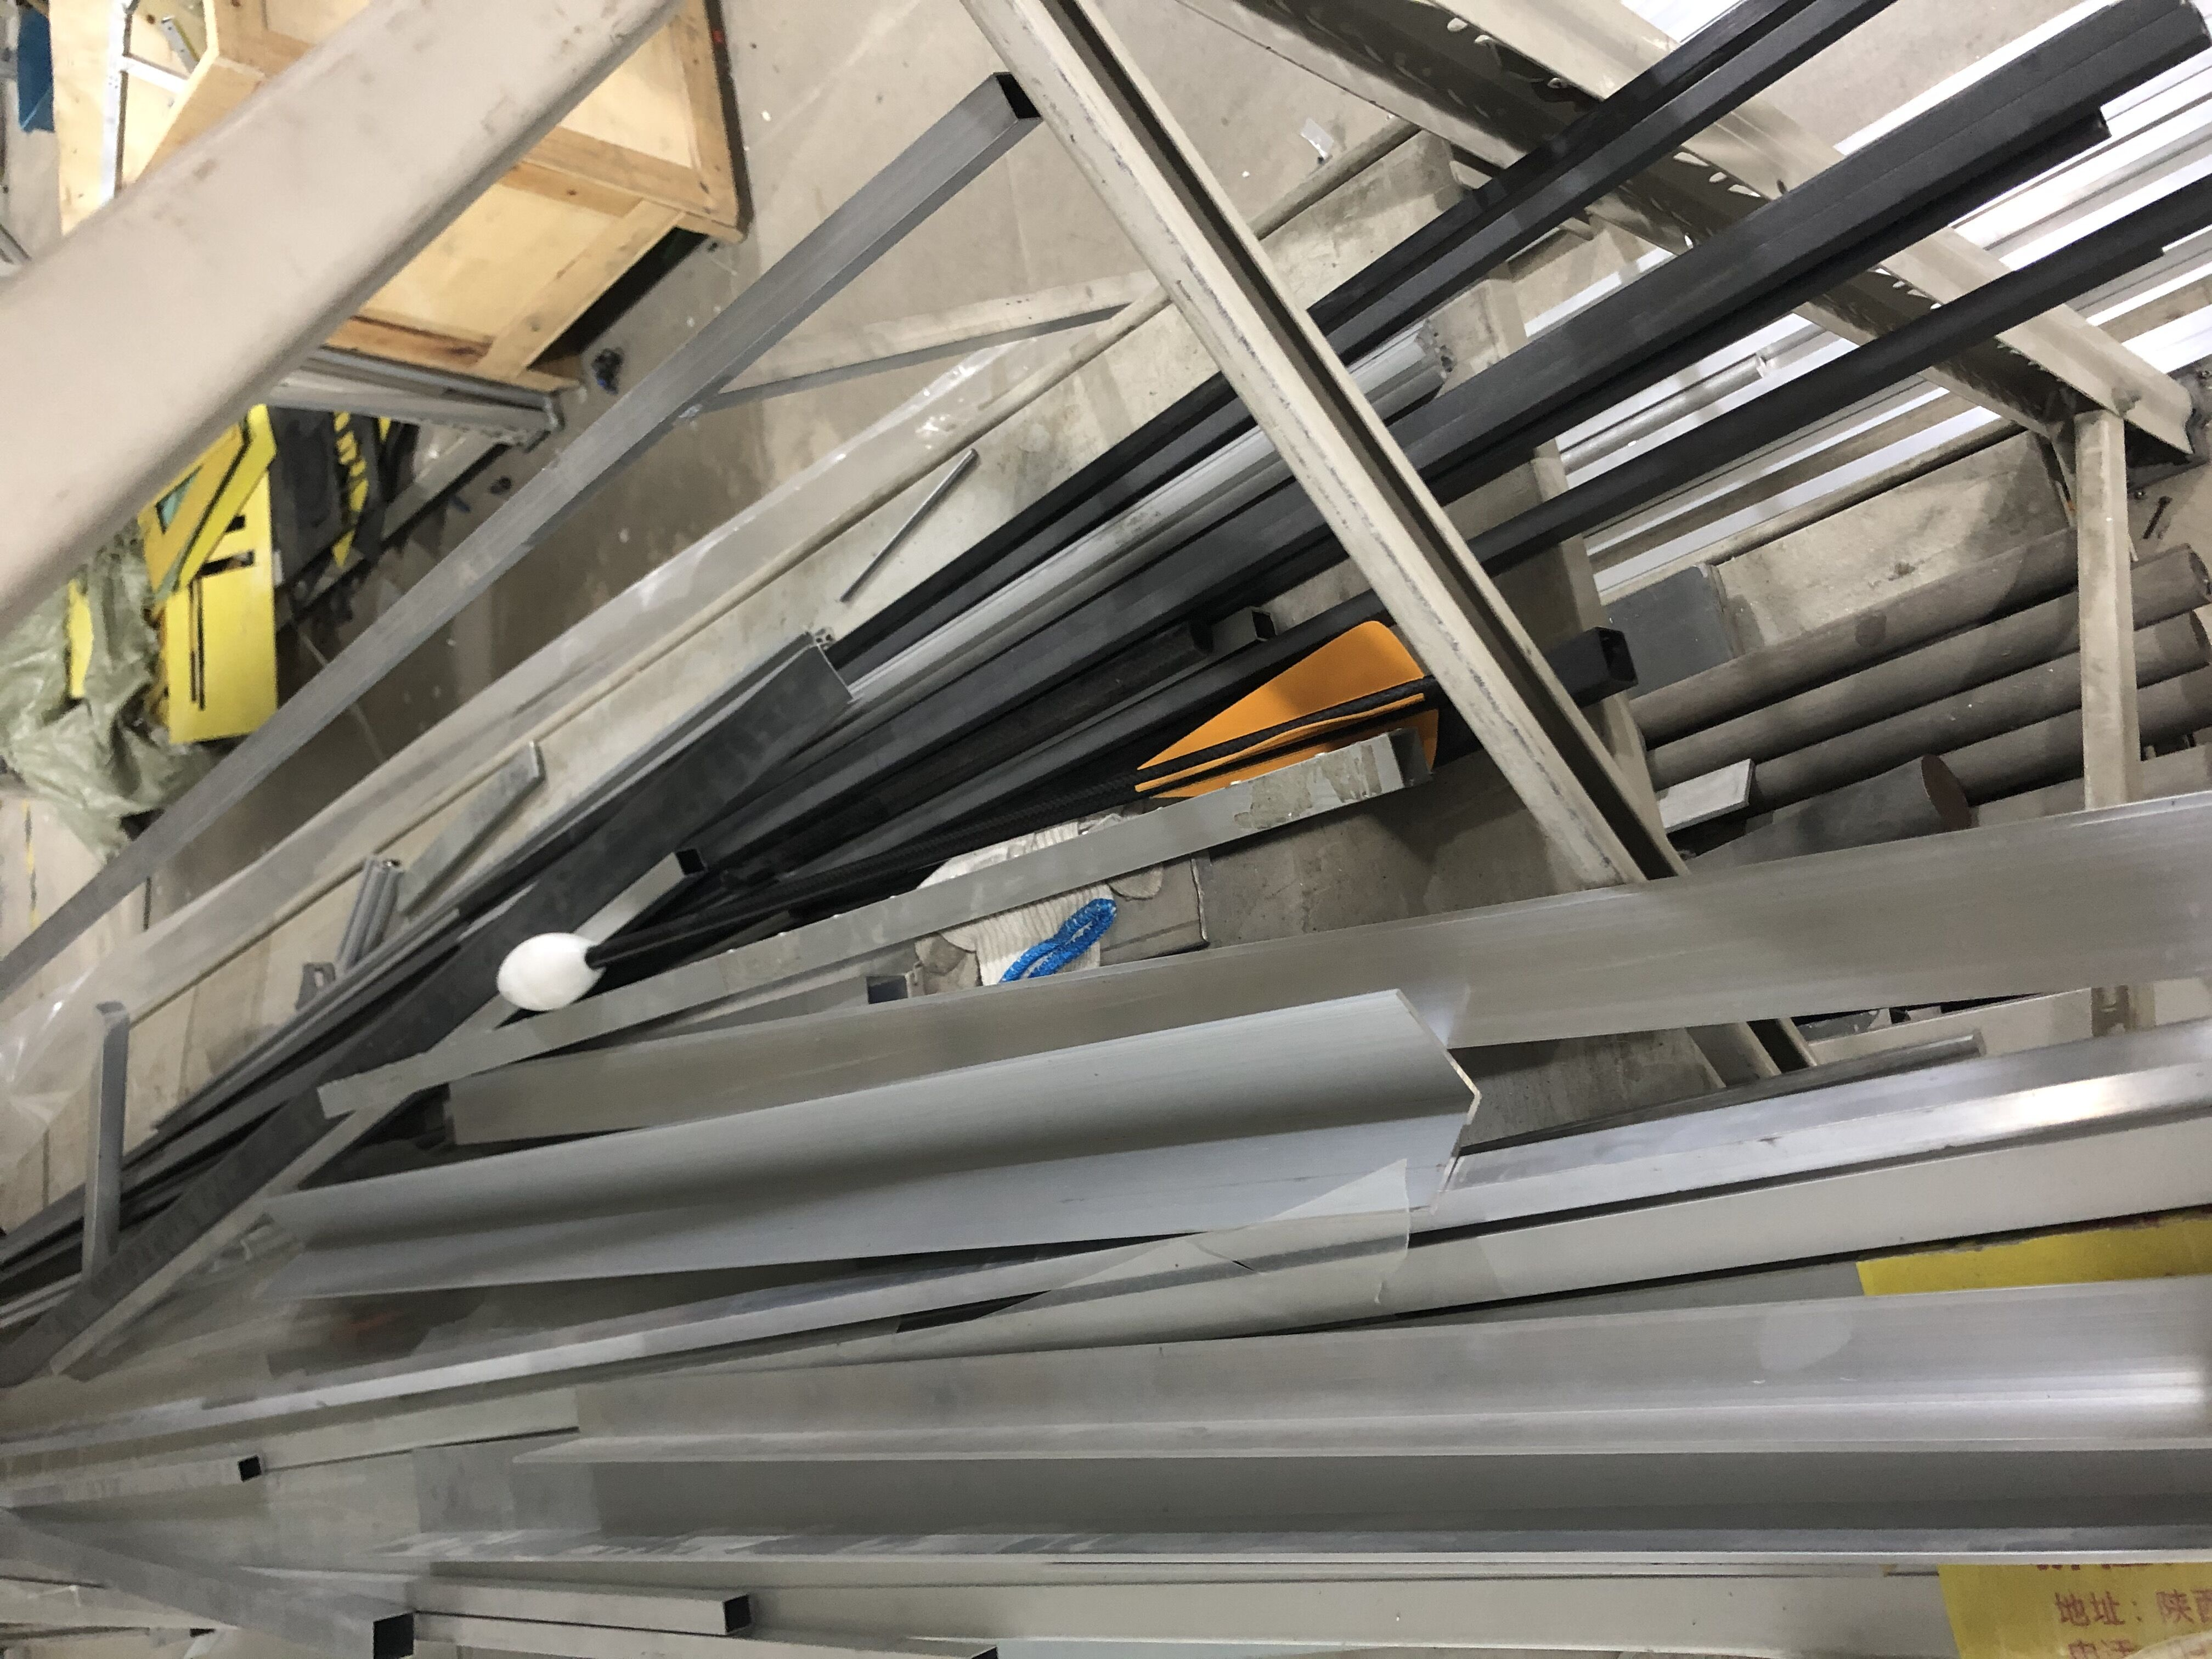arrow: (493, 615, 1447, 1021)
arrowFront: (496, 931, 603, 1009)
